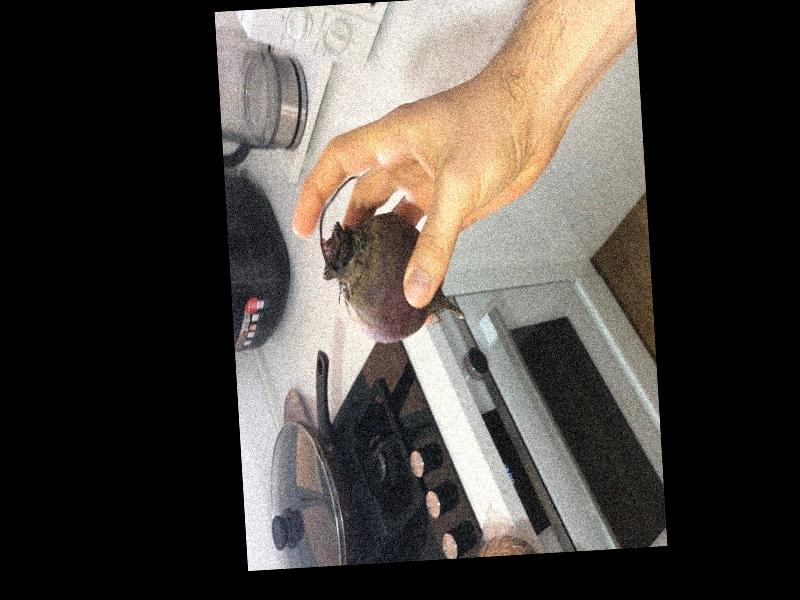Beet: (317, 172, 465, 345)
